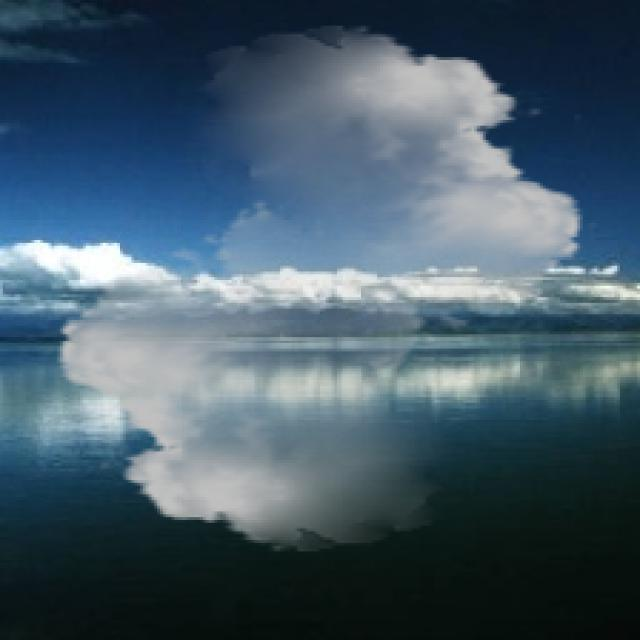Smoke: (40, 26, 600, 552)
